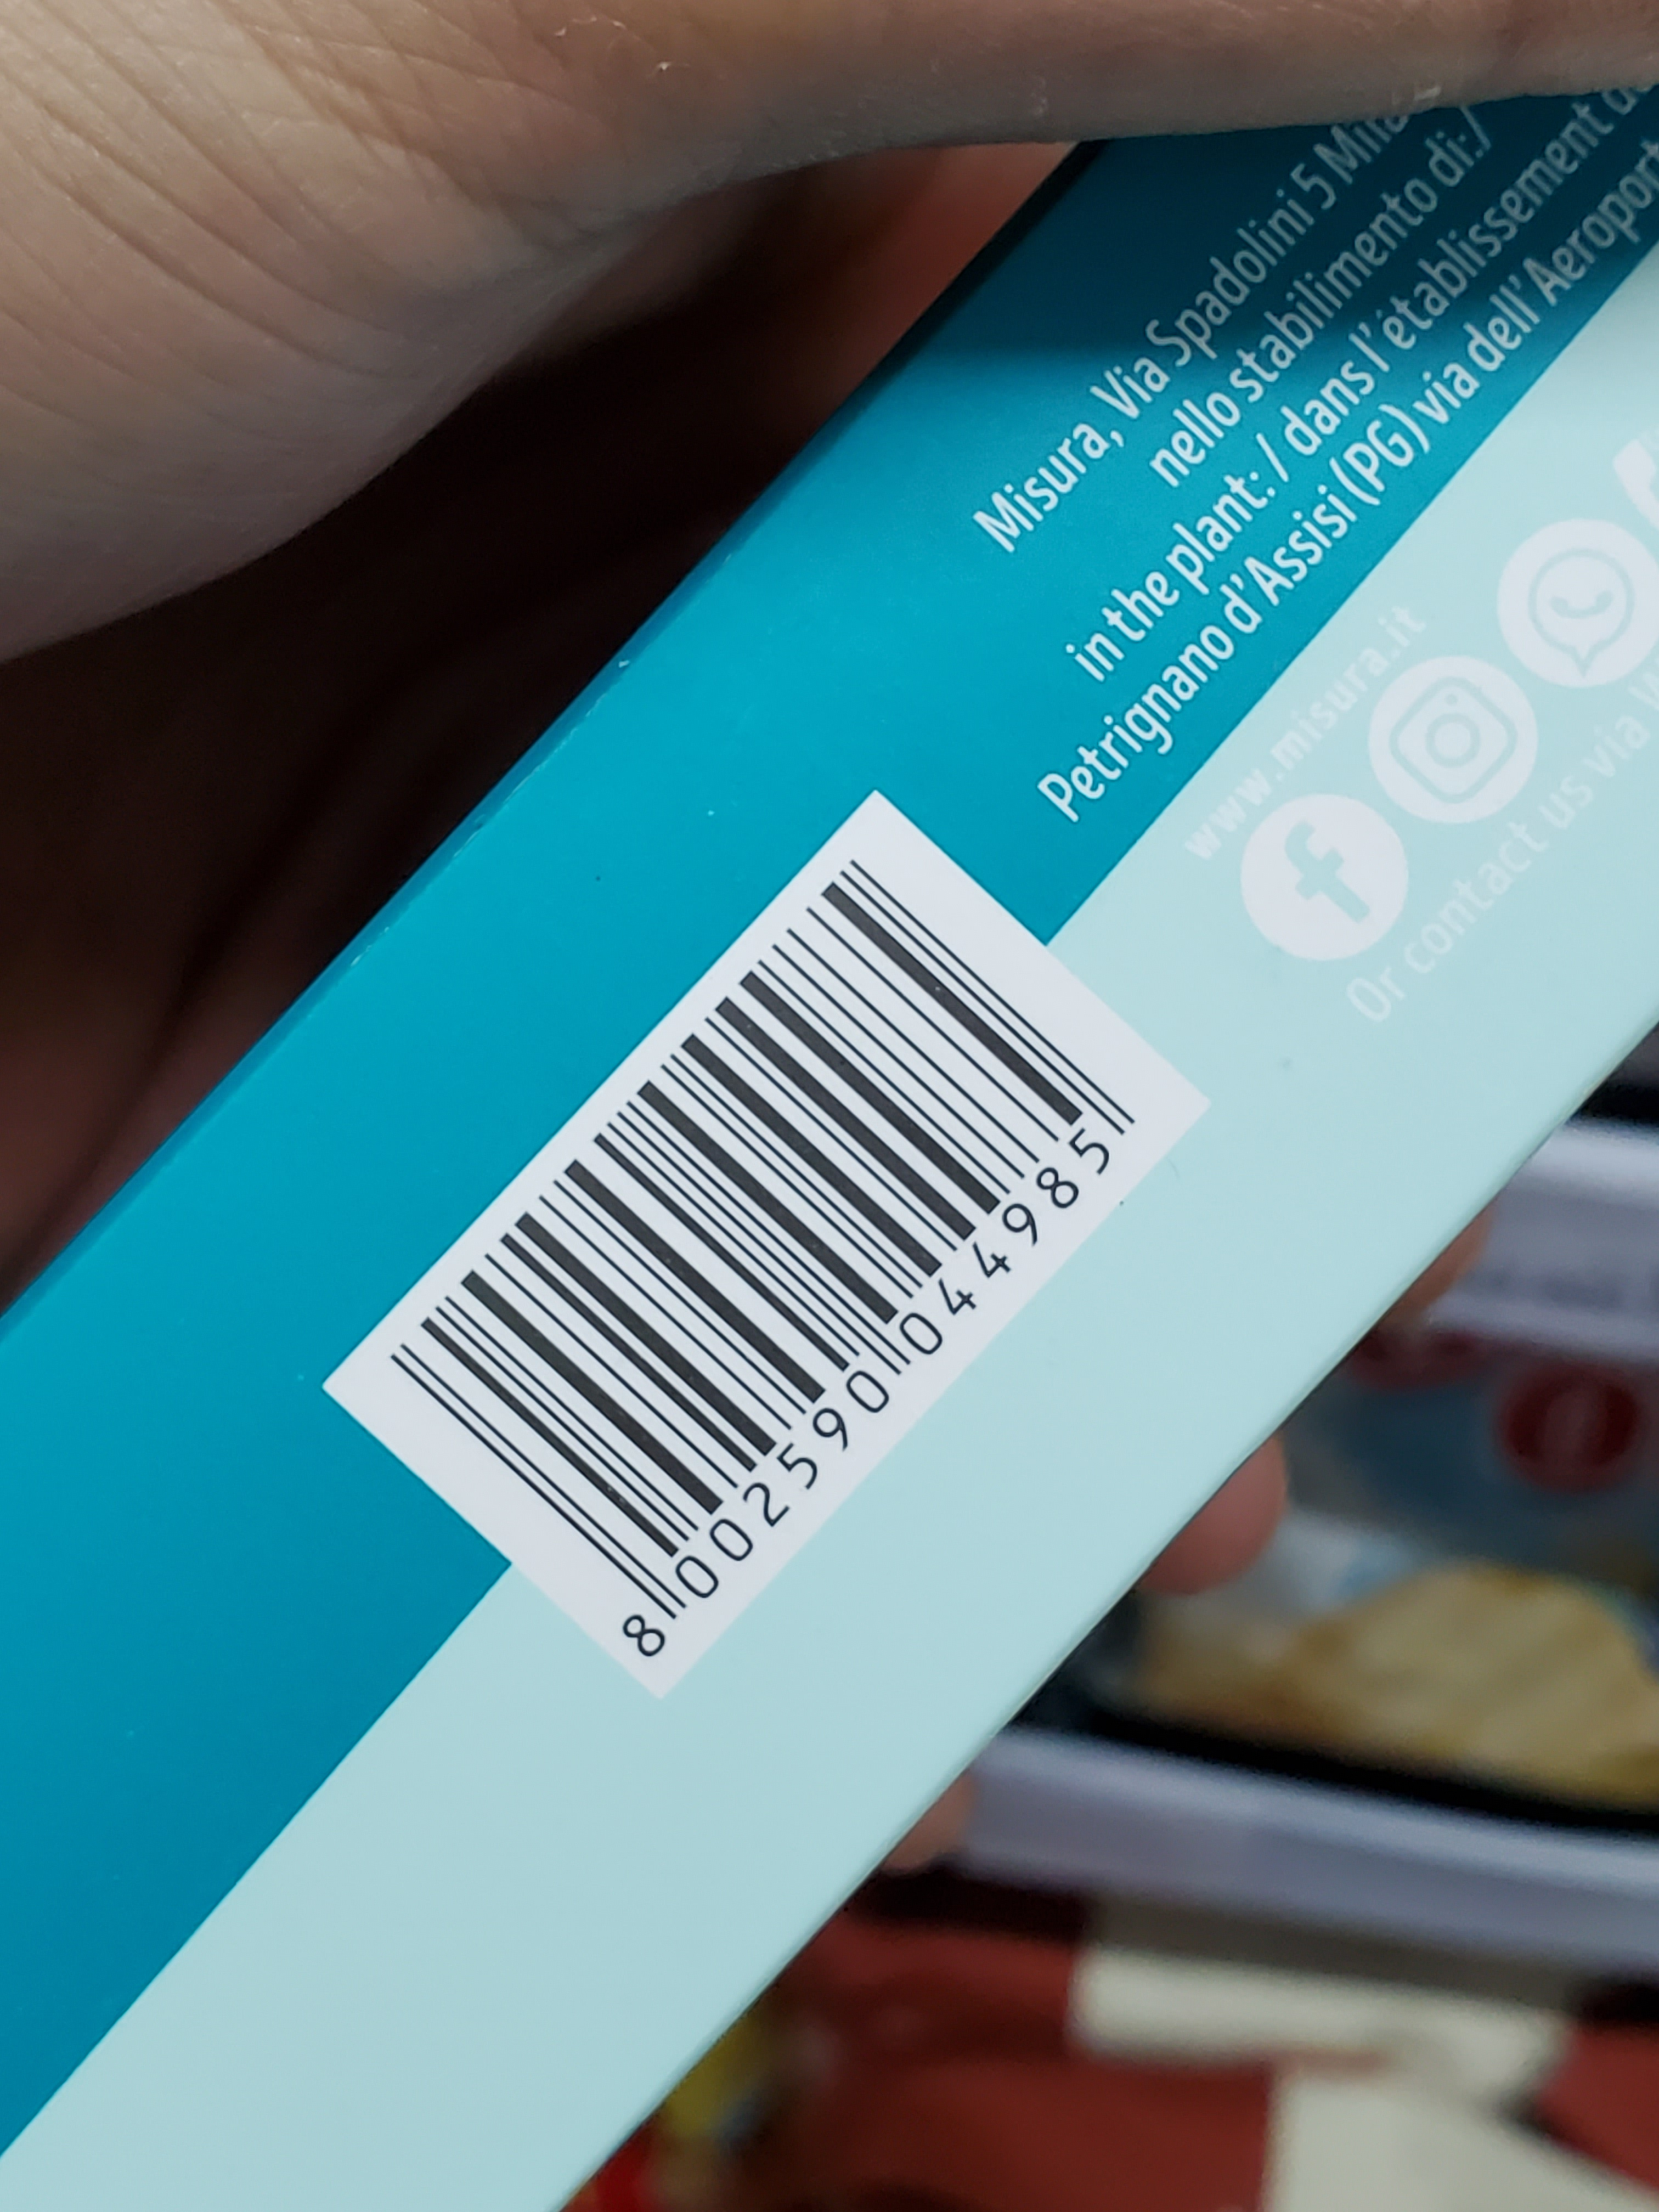barcode: (369, 822, 1164, 1691)
